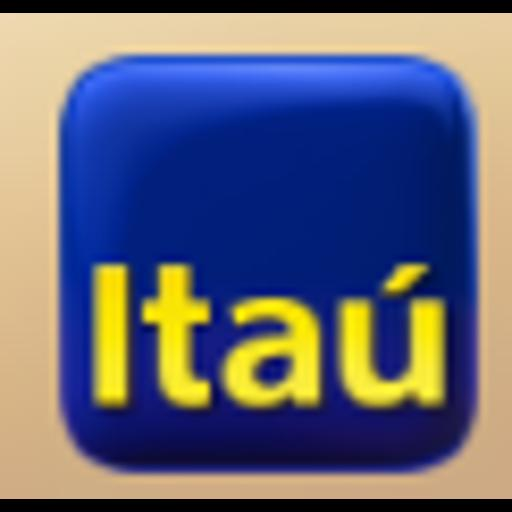Itau Unibanco S-A: (0, 13, 512, 499)
